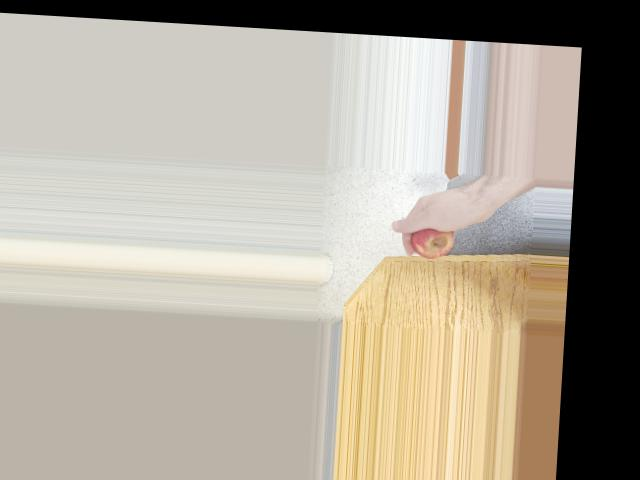apple: (408, 210, 461, 262)
